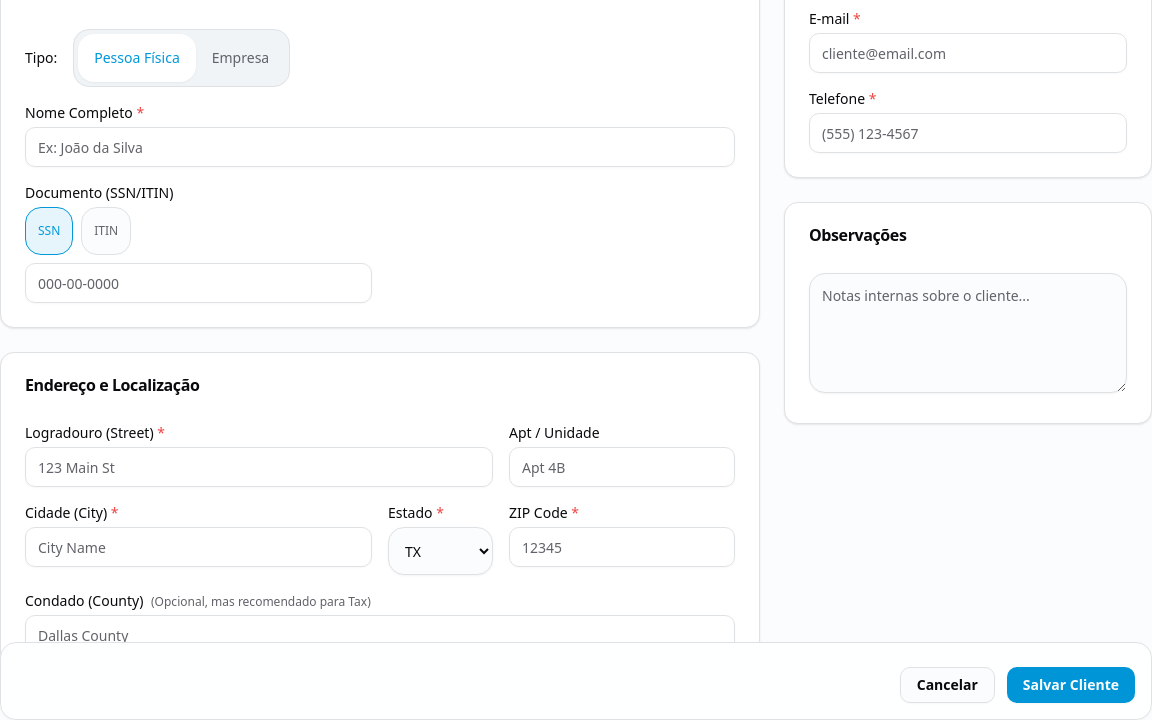
ClienteForm › Error UX › clears field error when user types in that field
The width and height of the screenshot is (1152, 720).
(page scrolled)
Submit the form named "salvar"
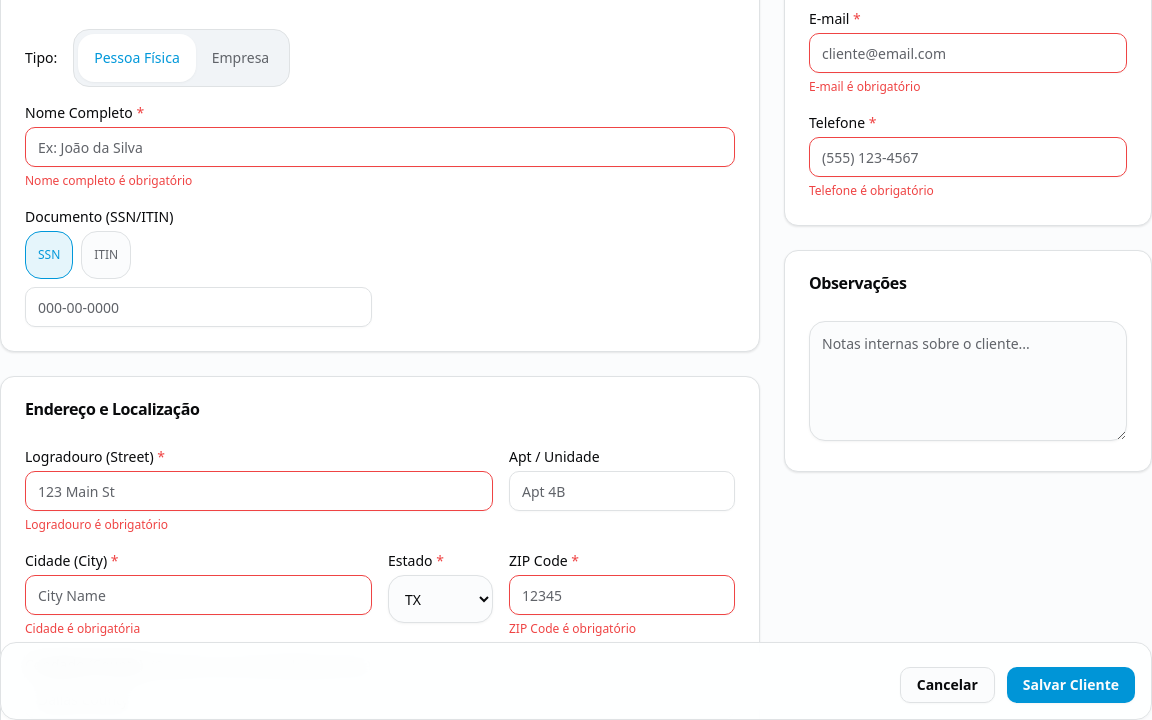
Result: the text "E-mail é obrigatório" is shown at [809, 78, 920, 95]
Type "a" into the field with test id "cliente-form-email" at (968, 53), box [809, 33, 1127, 73]
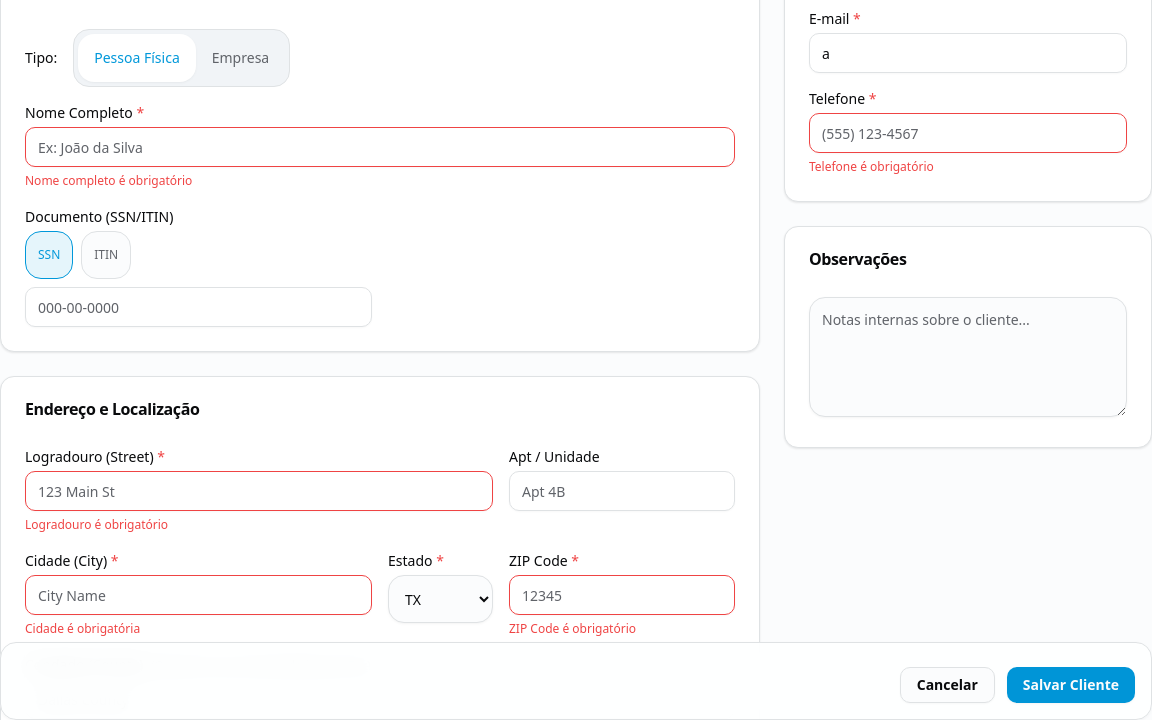
Result: the text "E-mail é obrigatório" is gone
